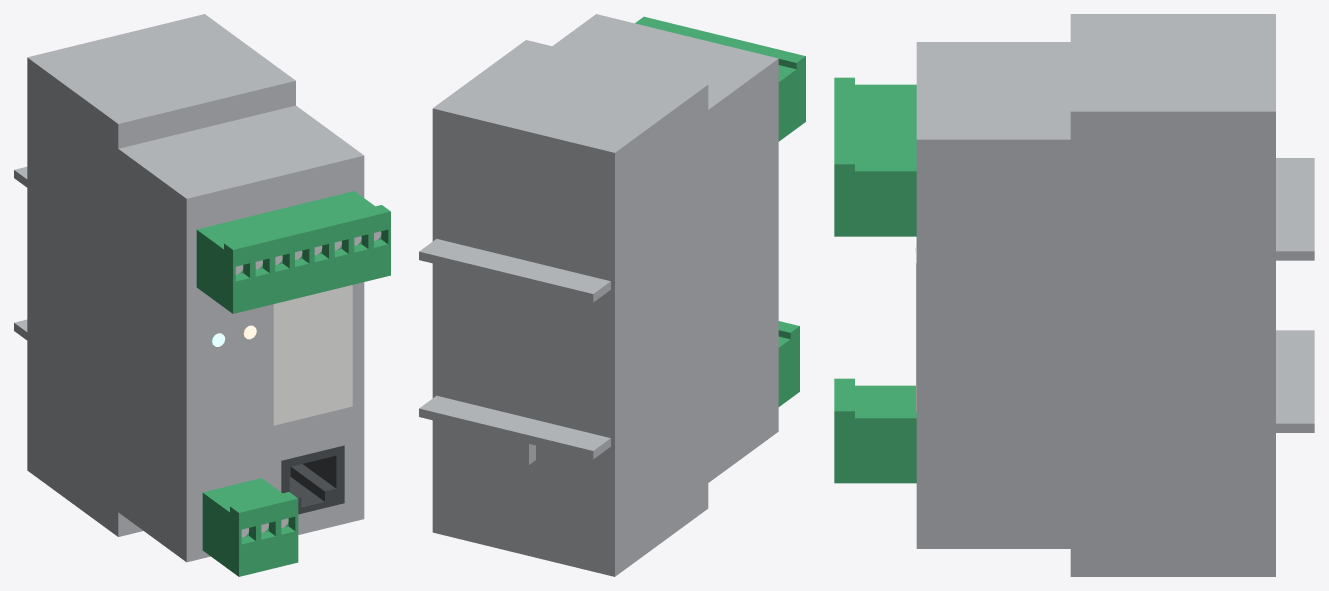
Rendered from daq.glb.
3 renders of one model, left to right at view 1: azimuth 30°, elevation 25°; view 2: azimuth 150°, elevation 25°; view 3: azimuth 270°, elevation 25°, orthographic. The views are drawn at different scales.
Visible parts, largest first — view 1: body; view 2: body; view 3: body.
Boxes of the visible parts, x1,y1,x2,y2 form: body: [14, 14, 390, 576]; body: [419, 14, 805, 576]; body: [834, 14, 1314, 576].
Size of what is drawn, in the model's own units: 0.045 by 0.1 by 0.0935.
